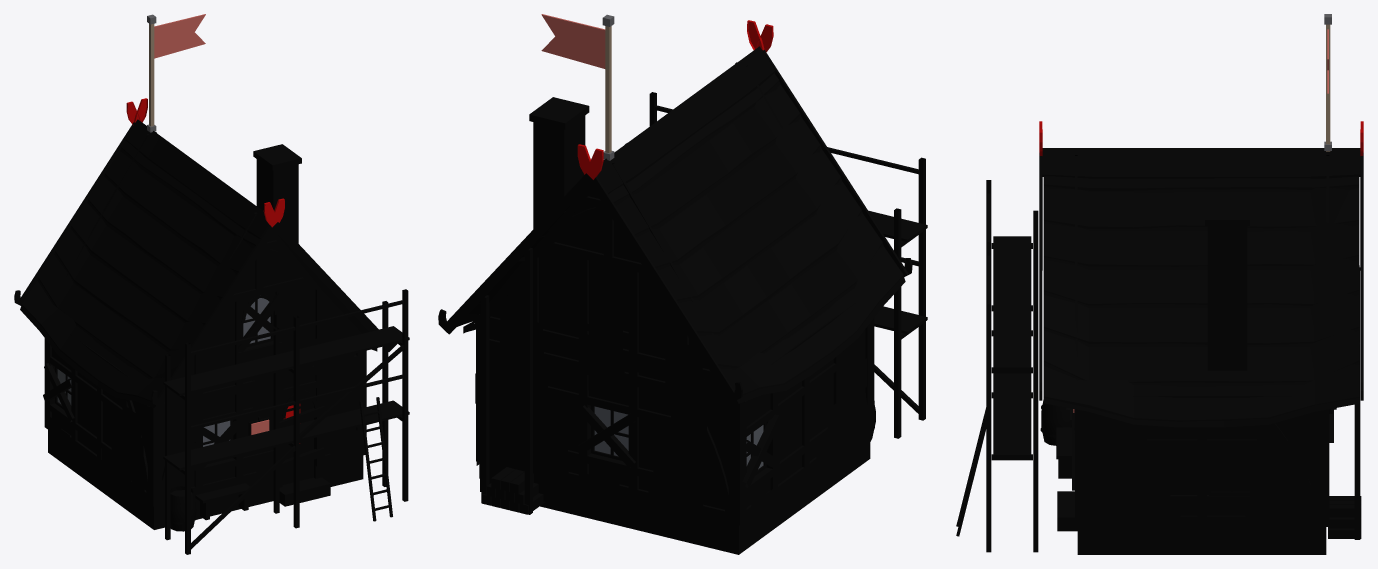
File: wohnhaus_elb_s1_g1.glb
3 views of the same model, side by side, from view 1: azimuth 30°, elevation 25°; view 2: azimuth 150°, elevation 25°; view 3: azimuth 270°, elevation 25° (orthographic). The views are drawn at different scales.
Parts seen in each view (by area): view 1: Dach, Haus, Geruest, Leerstand, Fahne, Scheiben; view 2: Haus, Dach, Geruest, Fahne, Leerstand, Scheiben; view 3: Dach, Haus, Geruest, Fahne.
Boxes of the visible parts, x1,y1,x2,y2 form: Dach: [14, 98, 397, 407]; Haus: [44, 132, 366, 531]; Geruest: [163, 289, 409, 554]; Leerstand: [43, 292, 325, 471]; Fahne: [147, 14, 205, 132]; Scheiben: [57, 298, 270, 446]; Haus: [474, 62, 875, 554]; Dach: [438, 20, 912, 403]; Geruest: [625, 92, 927, 438]; Fahne: [541, 14, 614, 160]; Leerstand: [577, 405, 781, 487]; Scheiben: [594, 406, 763, 469]; Dach: [1039, 121, 1363, 427]; Haus: [1040, 154, 1361, 554]; Geruest: [956, 180, 1038, 552]; Fahne: [1324, 14, 1331, 151].
Bounding box in the file's own units: 5.86 × 9.36 × 7.2.
